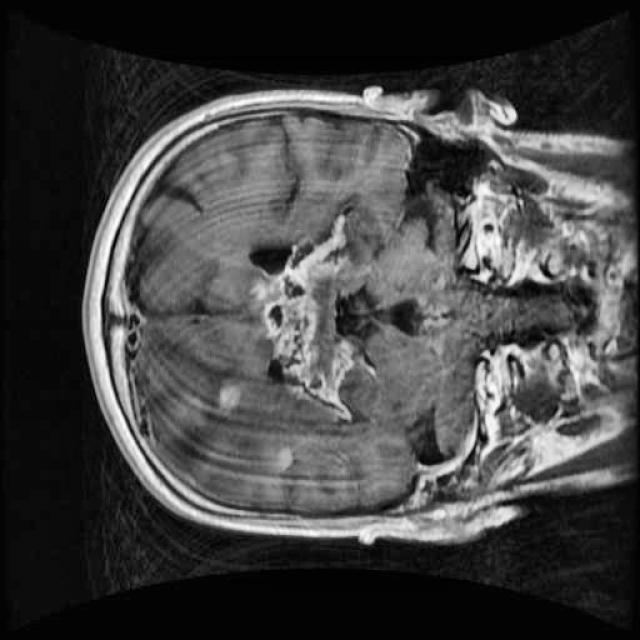Tumor: (236, 197, 390, 442)
